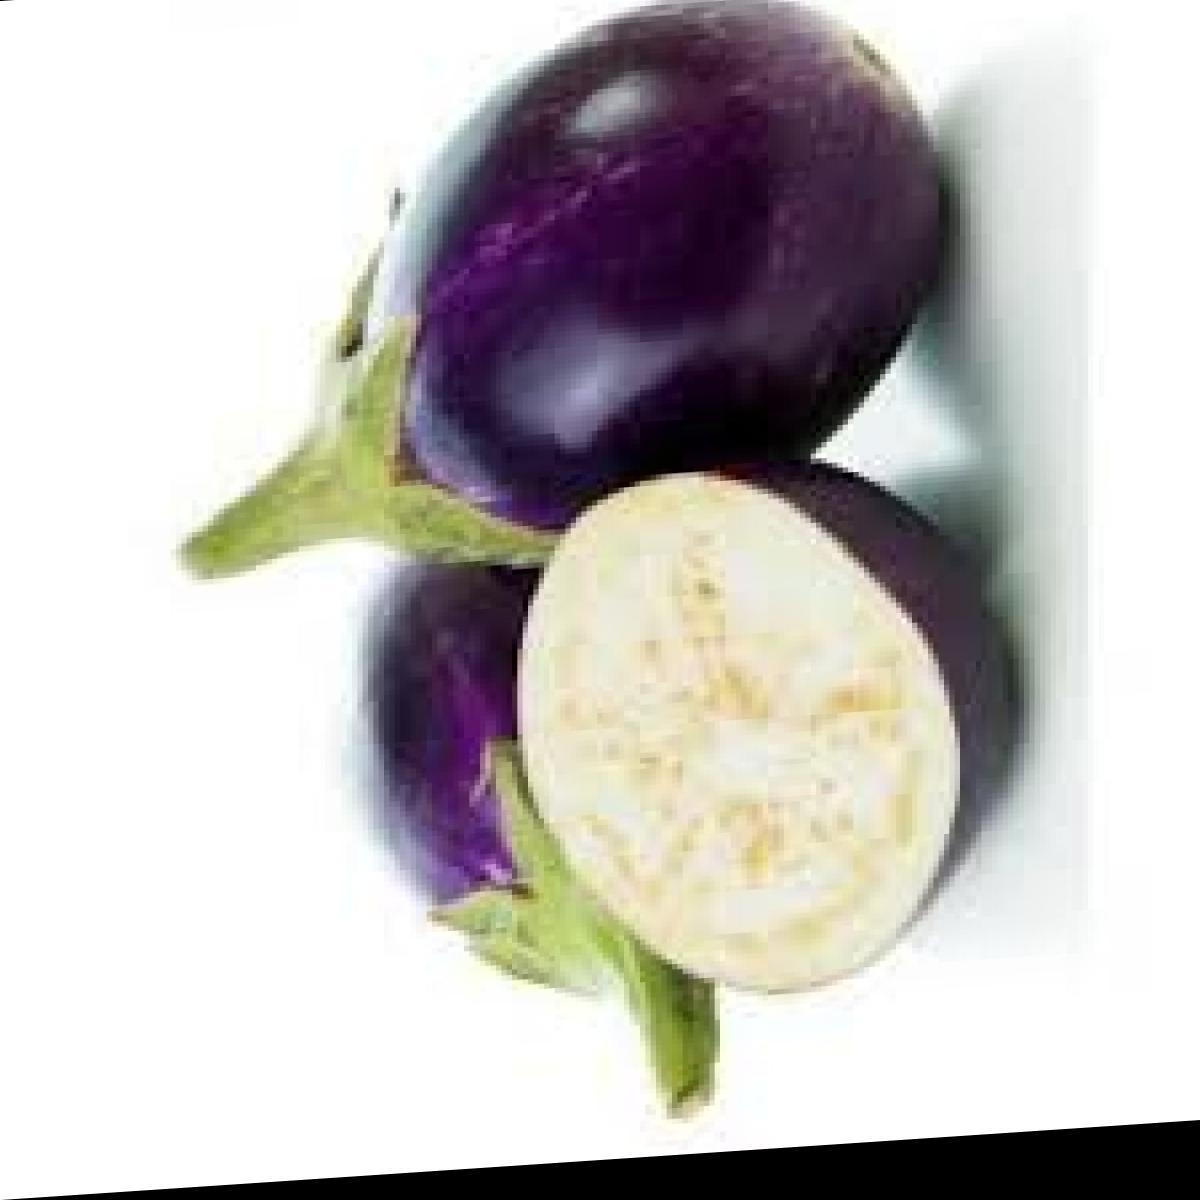eggplant: (227, 90, 988, 1051)
